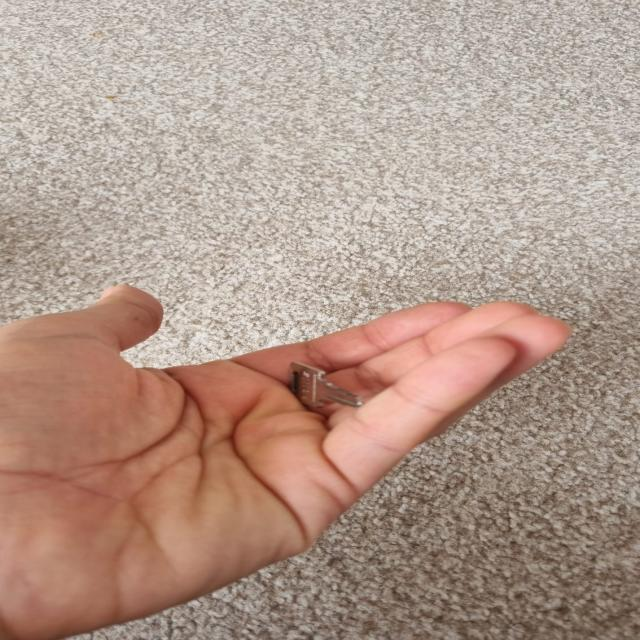Key: (290, 363, 362, 410)
